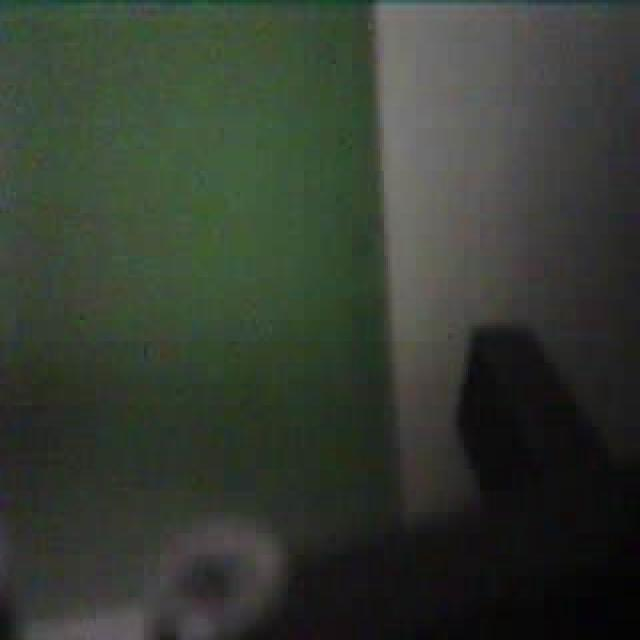green_box: (0, 0, 410, 600)
